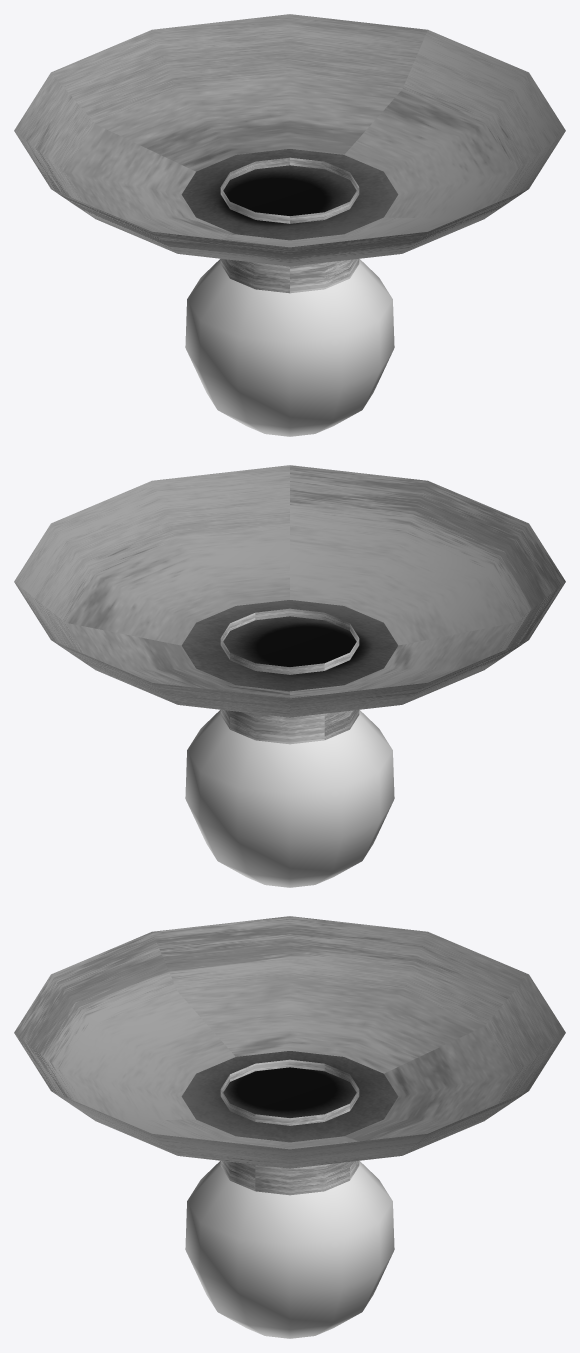
Rendered from Exposed Lightbulb.fbx.
3 views of the same model, one above another, from view 1: azimuth 30°, elevation 25°; view 2: azimuth 150°, elevation 25°; view 3: azimuth 270°, elevation 25° (orthographic).
Visible parts, largest first — view 1: Tiffany Lamp.001; view 2: Tiffany Lamp.001; view 3: Tiffany Lamp.001.
Boxes of the visible parts, x1,y1,x2,y2 form: Tiffany Lamp.001: (14, 14, 565, 436); Tiffany Lamp.001: (14, 465, 565, 887); Tiffany Lamp.001: (14, 916, 565, 1338).
Bounding box in the file's own units: 35.73 × 20.35 × 35.73.
